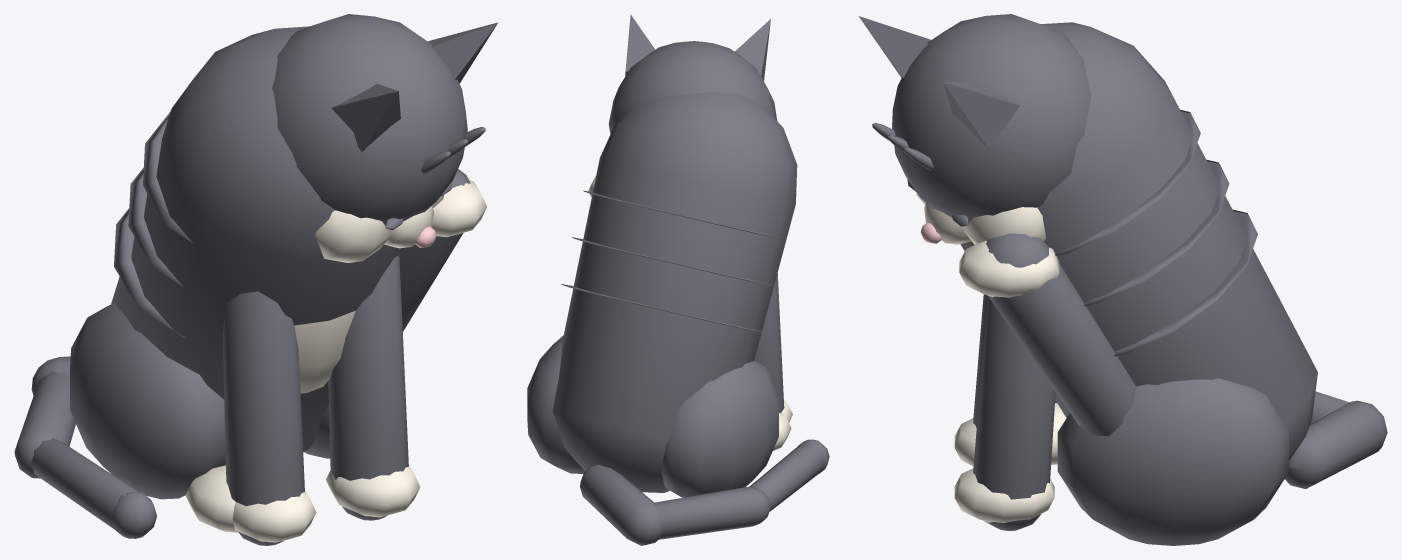
File: companion-animals-and-pet-home-cat-grooming-tuxedo-fa589261__20562.glb
The picture shows the model from 3 angles, left to right: view 1: azimuth 30°, elevation 25°; view 2: azimuth 150°, elevation 25°; view 3: azimuth 270°, elevation 25°; orthographic projection. The views are drawn at different scales.
Visible parts, largest first — view 1: cat-grooming-tuxedo; view 2: cat-grooming-tuxedo; view 3: cat-grooming-tuxedo.
Part boxes in pixels (left/top/right/bottom): cat-grooming-tuxedo: left=14, top=14, right=498, bottom=545; cat-grooming-tuxedo: left=527, top=14, right=829, bottom=545; cat-grooming-tuxedo: left=858, top=14, right=1387, bottom=545.
Bounding box in the file's own units: 0.3137 × 0.435 × 0.4216.
